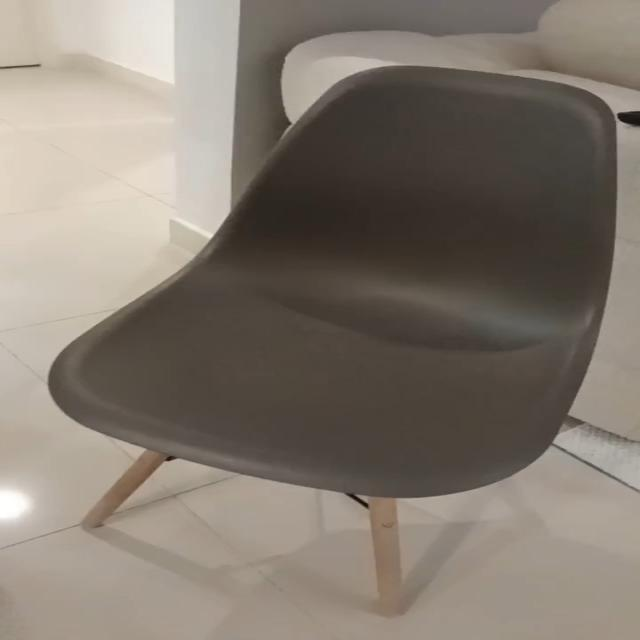sandalye: (48, 66, 615, 609)
